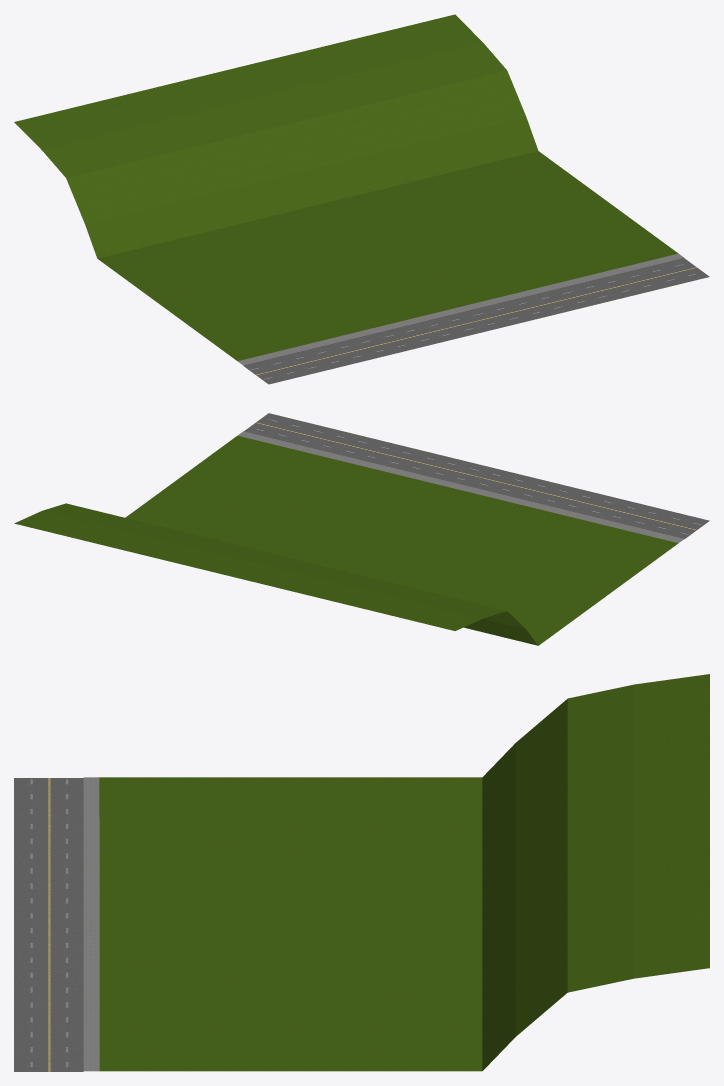
File: ground_grass.FBX
The picture shows the model from 3 angles, top to bottom: view 1: azimuth 30°, elevation 25°; view 2: azimuth 150°, elevation 25°; view 3: azimuth 270°, elevation 25°; orthographic projection. The views are drawn at different scales.
Parts seen in each view (by area): view 1: ground_grass_LOD0; view 2: ground_grass_LOD0; view 3: ground_grass_LOD0.
Part boxes in pixels (x1,y1,x2,y2): ground_grass_LOD0: [14, 14, 709, 384]; ground_grass_LOD0: [14, 413, 709, 645]; ground_grass_LOD0: [14, 674, 709, 1071].
Size of what is drawn, in the model's own units: 200 by 32.93 by 200.
